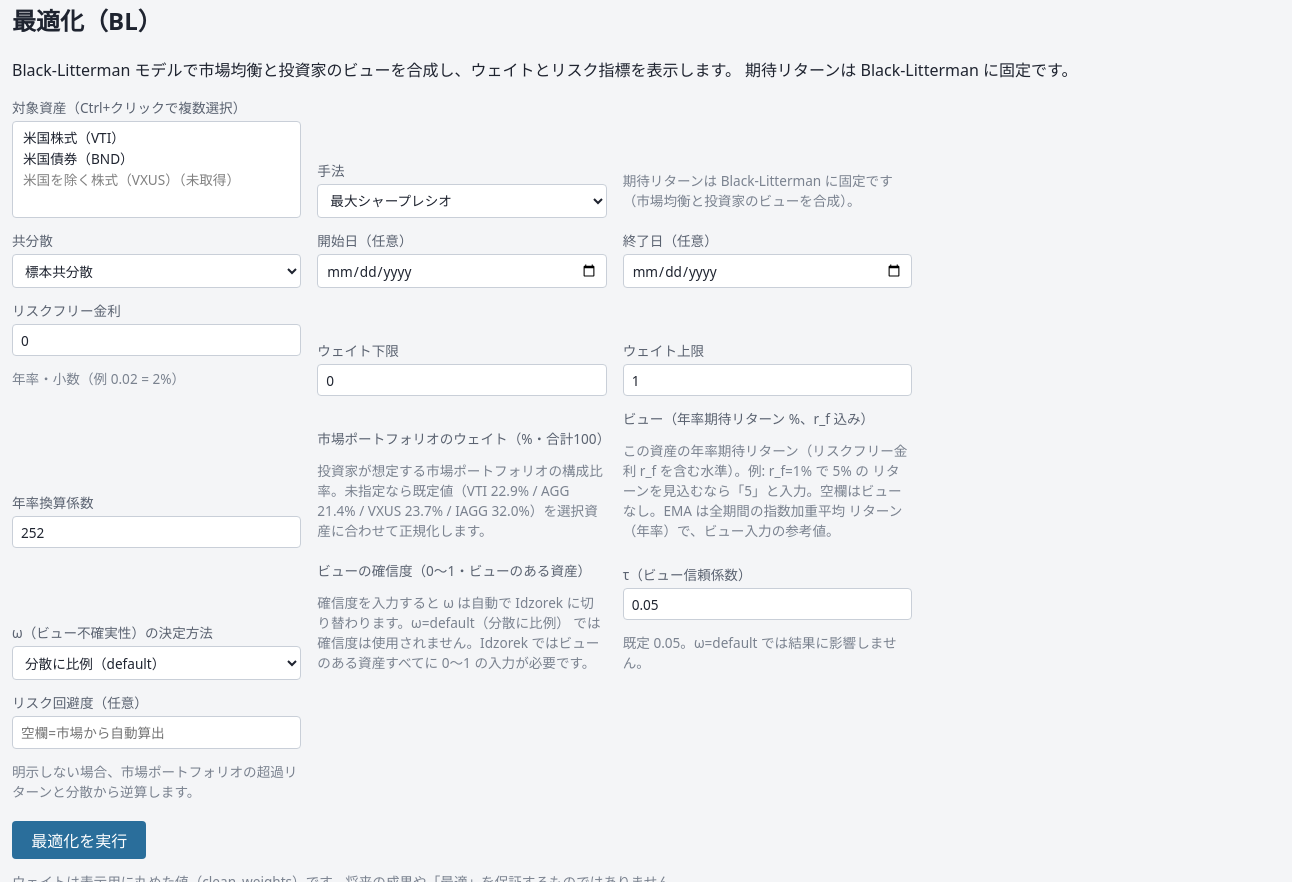
Test: BlOptimizationScreen › BL で実行すると POST body に BL フィールドが含まれる
Select "us_equity, us_bond" in the dropdown labelled "対象資産（Ctrl+クリックで複数選択）" at (157, 169), box [12,121,301,218]
(page scrolled)
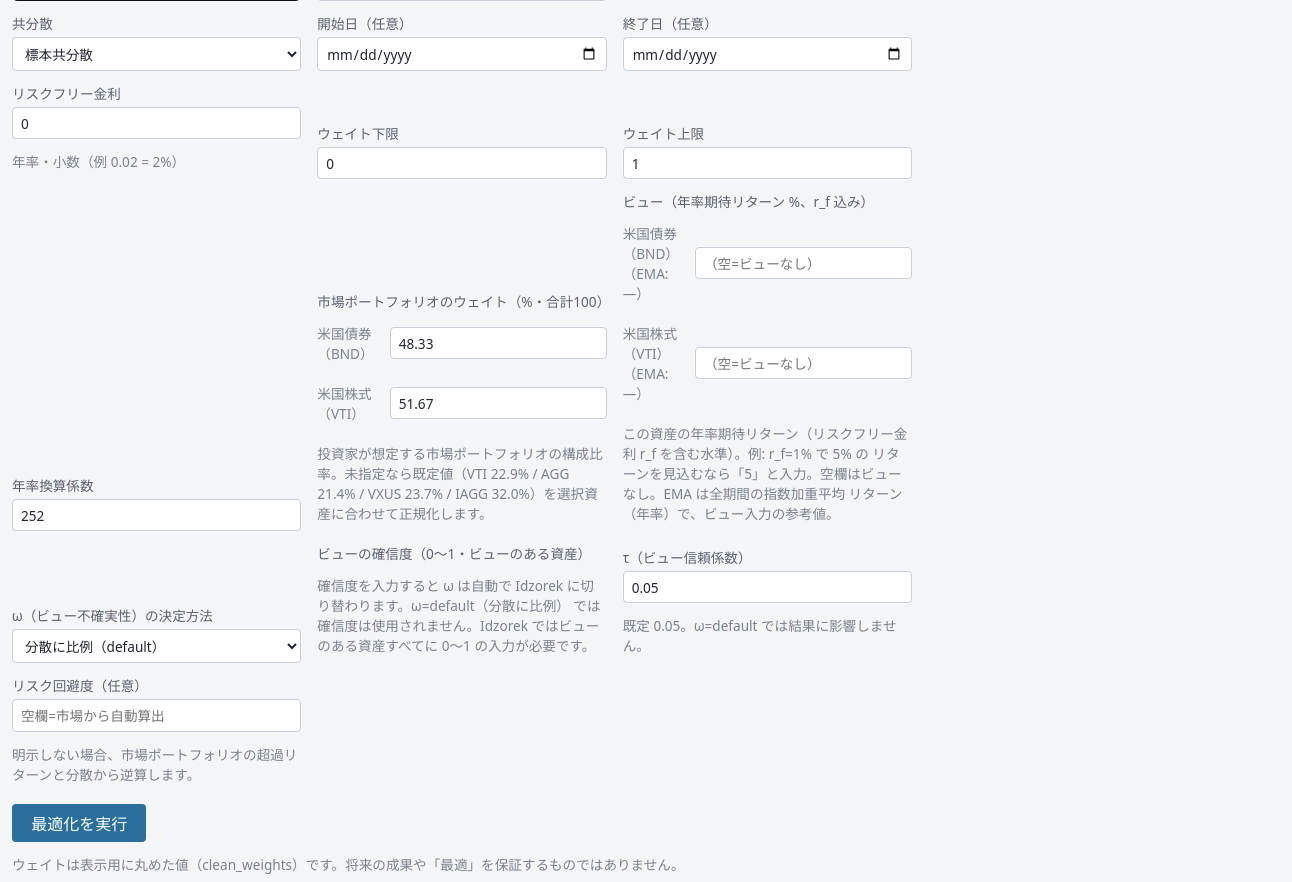
Click the button "最適化を実行".
click(79, 823)  # box [12,804,146,842]
(page scrolled)
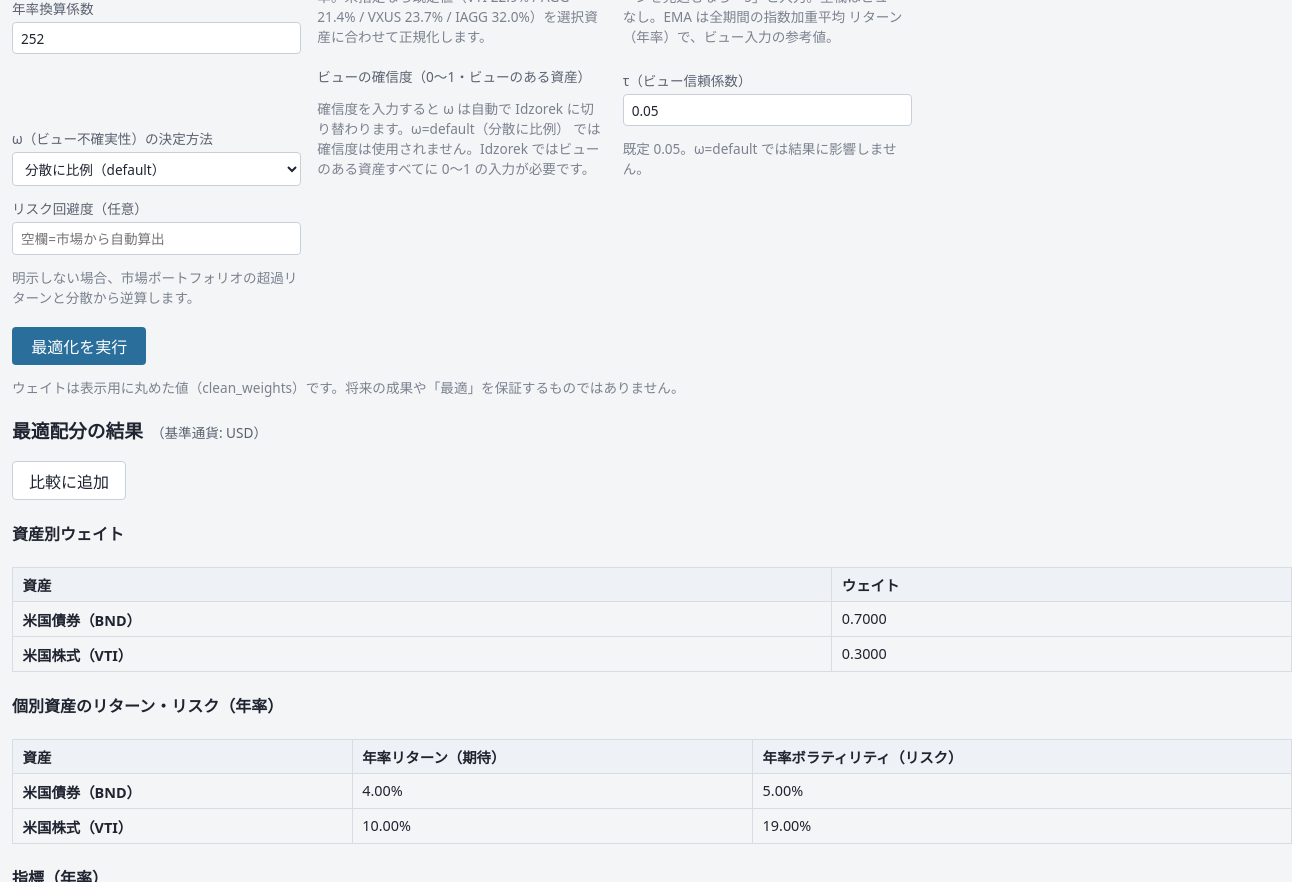
Check: the text "0.3000" is shown, box [832,637,1291,672]
Check: the text "（基準通貨: USD）" is shown, box [151,423,267,442]
